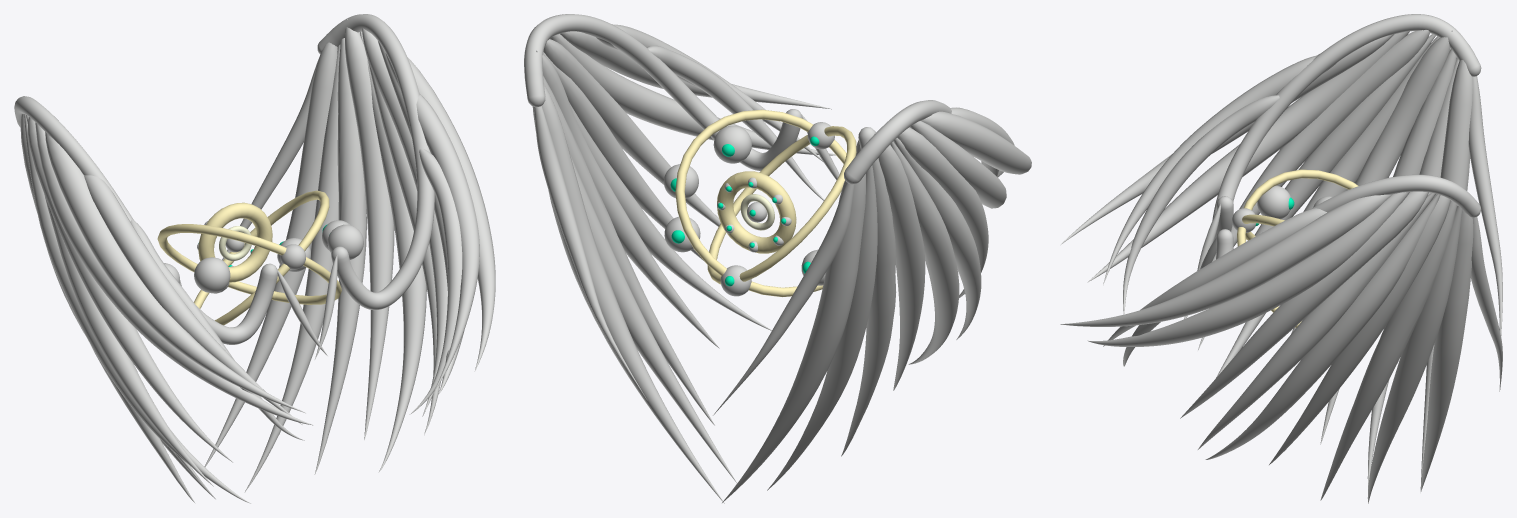
The model's file is angel_eyes.glb.
3 renders of one model, left to right at view 1: azimuth 30°, elevation 25°; view 2: azimuth 150°, elevation 25°; view 3: azimuth 270°, elevation 25°, orthographic. The views are drawn at different scales.
Visible parts, largest first — view 1: s.0087, s.0081_Mirrored, s.0076_Mirrored, s.0080_Mirrored, s.0078_Mirrored, s.0079_Mirrored, s.0084_Mirrored, s.0088, s.0085, s.0088_Mirrored, s.0090, s.0076 (+17 smaller); view 2: s.0078, s.0078_Mirrored, s.0076_Mirrored, s.0079, s.0081, s.0080, s.0084, s.0079_Mirrored, s.0081_Mirrored, s.0090_Mirrored, s.0085_Mirrored, s.0080_Mirrored (+21 smaller); view 3: s.0087_Mirrored, s.0085_Mirrored, s.0076, s.0084_Mirrored, s.0085, s.0090_Mirrored, s.0080_Mirrored, s.0079_Mirrored, s.0083_Mirrored, s.0078_Mirrored, s.0090, s.0081_Mirrored (+15 smaller).
Boxes of the visible parts, x1,y1,x2,y2 form: s.0087: (45,132,305,413); s.0081_Mirrored: (345,19,394,440); s.0076_Mirrored: (317,14,434,310); s.0080_Mirrored: (314,38,366,474); s.0078_Mirrored: (204,42,337,467); s.0079_Mirrored: (244,45,340,492); s.0084_Mirrored: (360,31,426,472); s.0088: (84,175,302,424); s.0085: (35,122,313,425); s.0088_Mirrored: (416,94,479,392); s.0090: (28,117,233,462); s.0076: (14,96,277,344); s.0078: (722,174,865,502); s.0078_Mirrored: (532,85,724,503); s.0076_Mirrored: (524,14,802,170); s.0079: (767,165,877,490); s.0081: (874,133,925,390); s.0080: (841,158,896,456); s.0084: (890,142,959,364); s.0079_Mirrored: (569,152,736,482); s.0081_Mirrored: (536,50,719,348); s.0090_Mirrored: (543,39,720,226); s.0085_Mirrored: (550,34,835,155); s.0080_Mirrored: (543,76,714,425); s.0087_Mirrored: (1060,194,1392,326); s.0085_Mirrored: (1087,192,1409,346); s.0076: (1212,14,1481,241); s.0084_Mirrored: (1205,194,1440,459); s.0085: (1087,31,1409,282); s.0090_Mirrored: (1180,191,1428,418); s.0080_Mirrored: (1320,200,1457,500); s.0079_Mirrored: (1367,205,1462,503); s.0083_Mirrored: (1198,193,1435,449); s.0078_Mirrored: (1420,210,1473,491); s.0090: (1184,30,1429,319); s.0081_Mirrored: (1269,181,1452,464).
Bounding box in the file's own units: 1.79 × 1.9 × 1.9.
